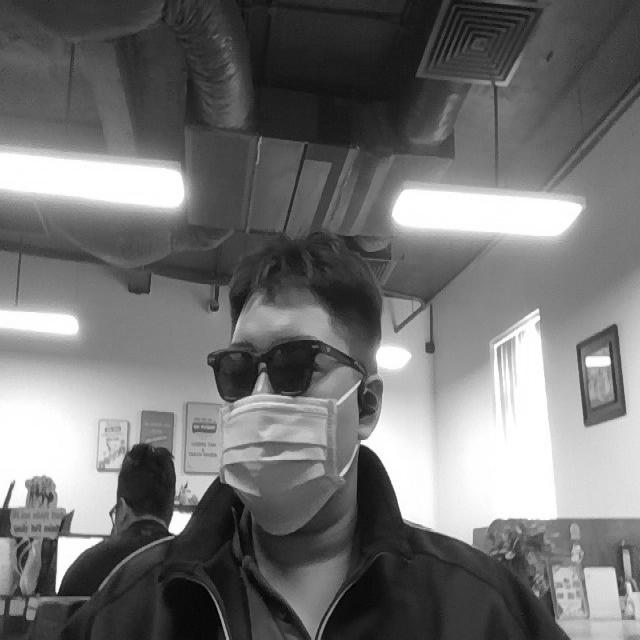fake: (223, 394, 345, 539), (205, 336, 368, 399)
